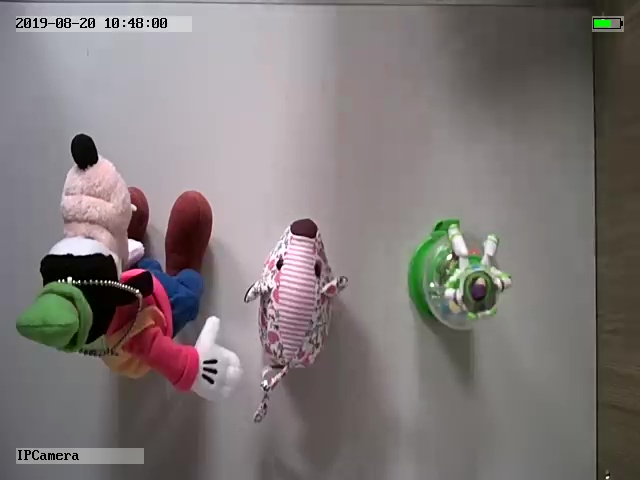buzz: (404, 218, 515, 336)
goofy: (12, 131, 244, 403)
pig: (244, 216, 347, 422)
